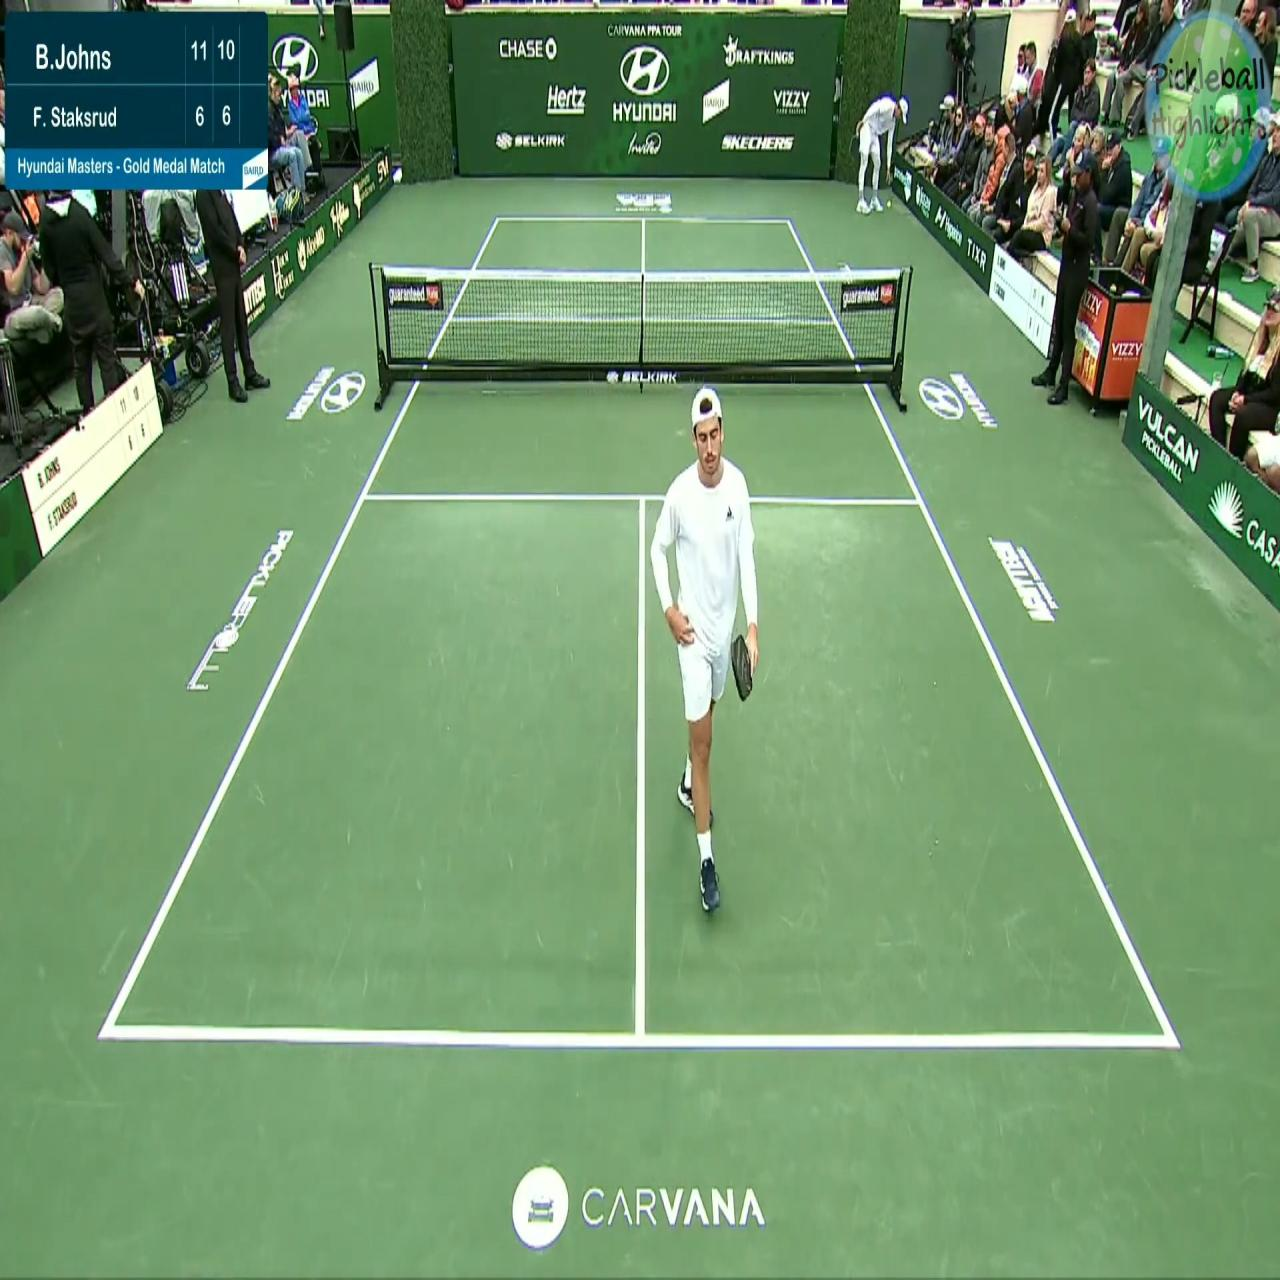pickleball: (886, 198, 892, 210)
